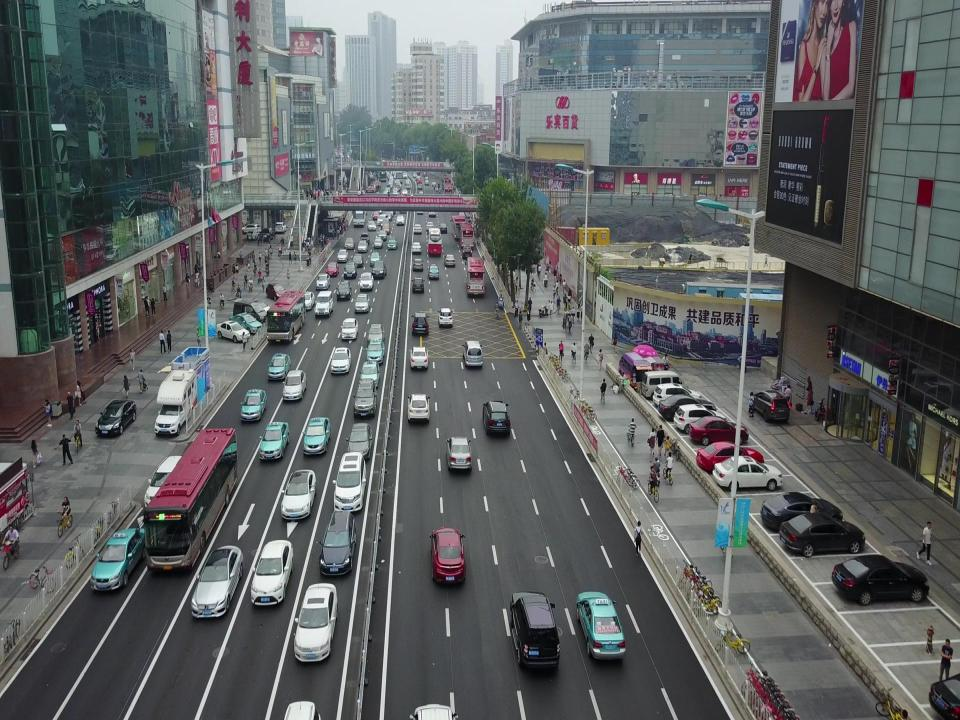bus: (143, 427, 239, 572), (264, 290, 305, 343), (465, 256, 485, 297), (427, 227, 441, 257), (458, 223, 474, 249), (450, 215, 466, 239), (352, 201, 365, 227)
car: (831, 555, 929, 606), (778, 511, 865, 559), (509, 591, 559, 669), (190, 545, 244, 617), (90, 528, 150, 590), (294, 583, 338, 662), (760, 491, 843, 532), (575, 591, 625, 659), (251, 540, 293, 605), (143, 455, 188, 510), (318, 510, 356, 574), (696, 441, 764, 476), (712, 457, 781, 491), (429, 526, 465, 585), (332, 452, 366, 511), (280, 470, 316, 519), (689, 417, 748, 445), (658, 394, 716, 422), (673, 404, 726, 434), (95, 399, 137, 435), (652, 383, 702, 409), (750, 390, 790, 422), (259, 420, 289, 459), (302, 417, 330, 454), (482, 400, 510, 435), (352, 378, 377, 417), (346, 423, 372, 460), (446, 436, 472, 471), (240, 388, 266, 421), (281, 369, 307, 400), (215, 320, 251, 342), (229, 312, 263, 334), (406, 393, 430, 422), (267, 352, 290, 378), (330, 346, 350, 373), (359, 361, 379, 387), (462, 341, 482, 367), (365, 339, 384, 364), (315, 291, 333, 317), (366, 324, 385, 348), (409, 347, 429, 369), (340, 317, 358, 341), (411, 311, 429, 334), (250, 300, 272, 318), (266, 283, 286, 301), (299, 291, 315, 311), (354, 294, 370, 314), (437, 308, 453, 328), (371, 260, 387, 279), (336, 280, 351, 300), (359, 272, 373, 291), (315, 274, 331, 290), (343, 262, 357, 280), (258, 228, 274, 242), (240, 224, 261, 234), (325, 262, 339, 277), (411, 276, 424, 292), (369, 251, 381, 266), (427, 264, 439, 279), (460, 245, 472, 260), (443, 254, 455, 267), (246, 229, 260, 240), (336, 249, 348, 261), (343, 238, 355, 250), (386, 237, 398, 249), (376, 214, 388, 226), (352, 254, 363, 267), (357, 240, 368, 253), (412, 258, 423, 271), (275, 222, 287, 233), (377, 229, 387, 242), (359, 232, 370, 243), (373, 237, 383, 249), (381, 224, 391, 235), (381, 219, 391, 229), (413, 224, 422, 235), (428, 206, 436, 218), (366, 221, 376, 230), (396, 215, 405, 225), (411, 243, 421, 252), (425, 222, 435, 231), (372, 211, 380, 220), (384, 212, 392, 221), (386, 208, 394, 217), (439, 224, 447, 233), (416, 205, 424, 214), (399, 204, 407, 213)
van: (154, 370, 198, 435), (642, 371, 688, 402), (618, 352, 652, 387), (233, 299, 267, 324)
